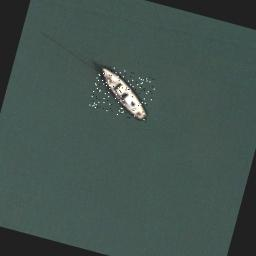boat: (87, 63, 157, 122)
